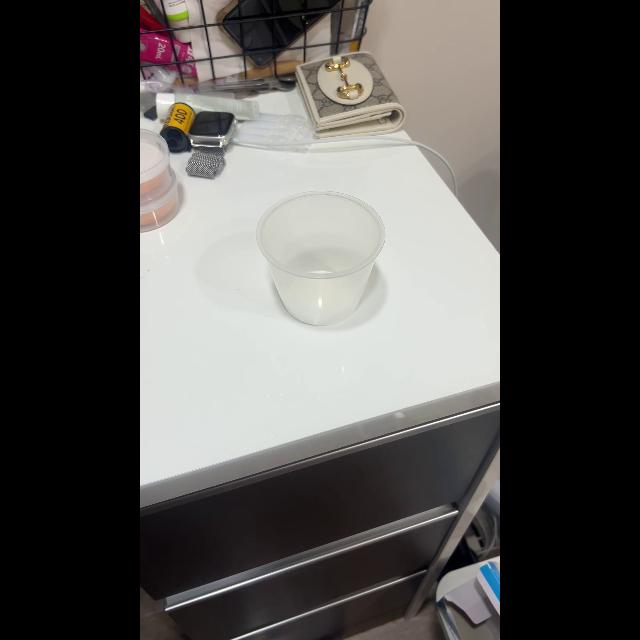clean: (258, 190, 384, 326)
